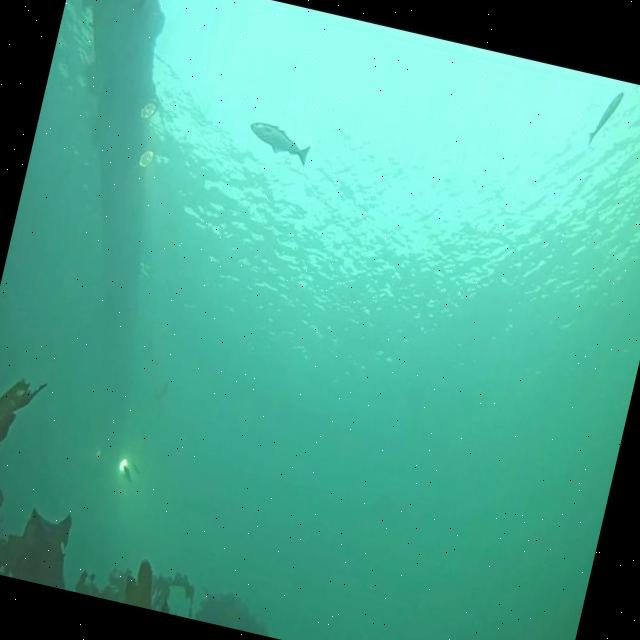fish: (244, 118, 314, 166), (584, 84, 626, 152)
